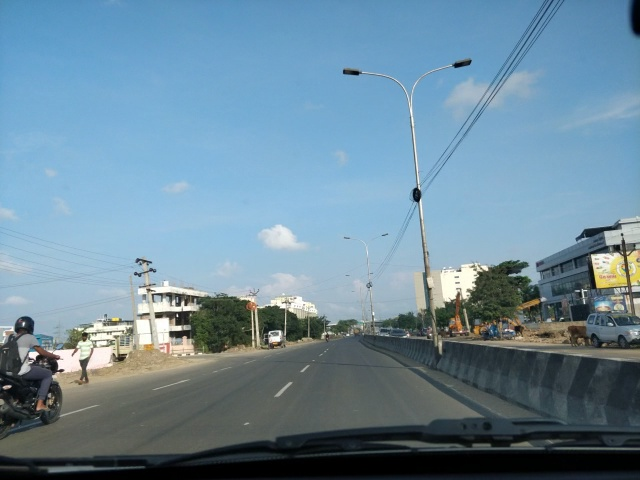car: (586, 308, 638, 347), (105, 333, 151, 360), (391, 322, 411, 347), (267, 329, 284, 348), (376, 327, 391, 345), (389, 328, 411, 338), (379, 325, 394, 337)
motorbike: (1, 309, 64, 434), (0, 379, 69, 434), (427, 325, 433, 340), (324, 331, 330, 342)
person: (1, 313, 53, 380), (78, 331, 94, 384)
